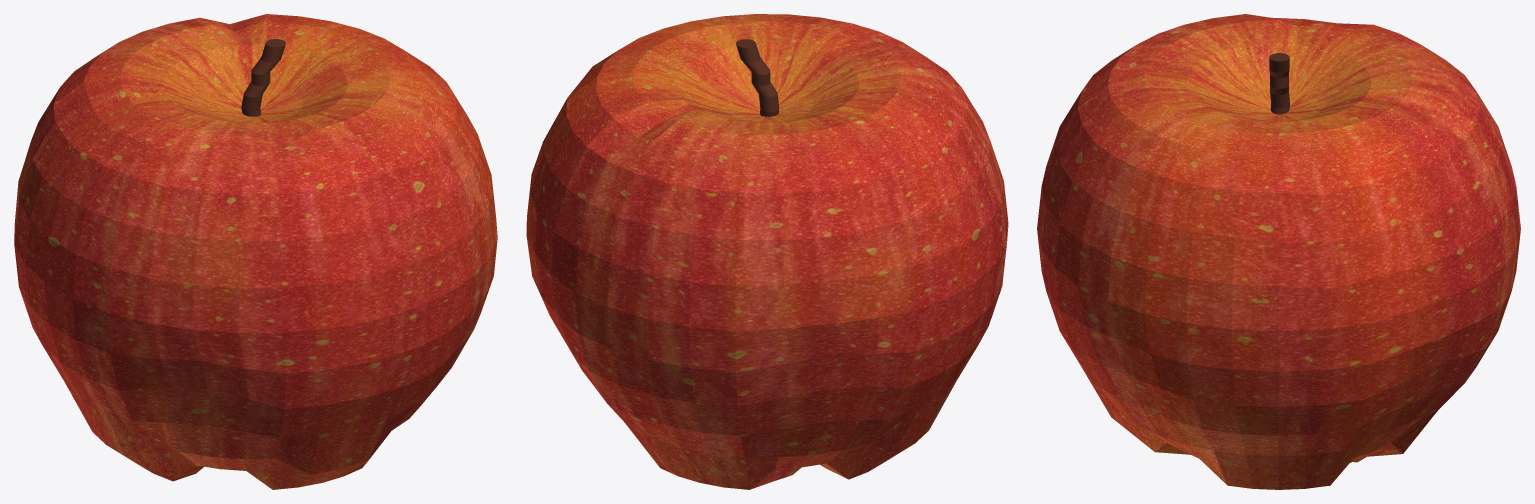
Rendered from apple.glb.
3 views of the same model, side by side, from view 1: azimuth 30°, elevation 25°; view 2: azimuth 150°, elevation 25°; view 3: azimuth 270°, elevation 25° (orthographic).
Parts seen in each view (by area): view 1: Sphere, Cylinder; view 2: Sphere, Cylinder; view 3: Sphere, Cylinder.
Part boxes in pixels (left/top/right/bottom): Sphere: left=14, top=14, right=497, bottom=489; Cylinder: left=241, top=39, right=285, bottom=116; Sphere: left=526, top=14, right=1008, bottom=489; Cylinder: left=736, top=39, right=779, bottom=116; Sphere: left=1037, top=14, right=1520, bottom=489; Cylinder: left=1269, top=53, right=1289, bottom=114.
Size of the model in its own units: 2 by 1.8 by 2.
2 materials, 1 textured.
